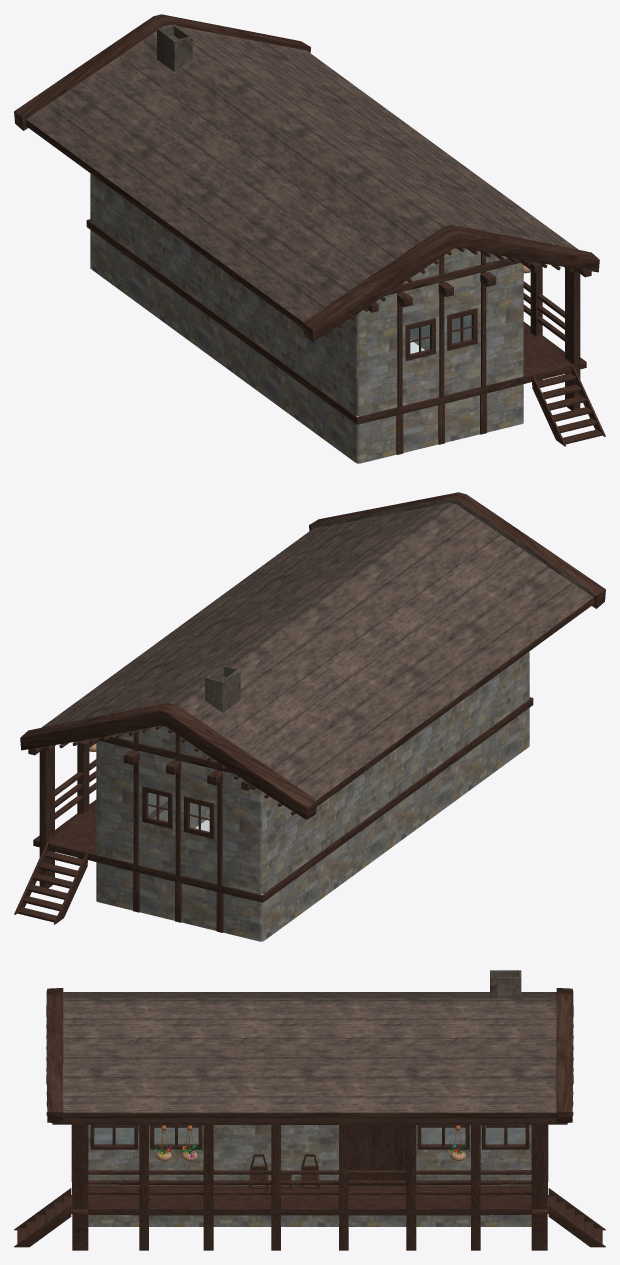
Rendered from forest-cabin.glb.
The picture shows the model from 3 angles, top to bottom: view 1: azimuth 30°, elevation 25°; view 2: azimuth 150°, elevation 25°; view 3: azimuth 270°, elevation 25°; orthographic projection. The views are drawn at different scales.
Visible parts, largest first — view 1: Roof, House, Structure, Terras, Stairs, Window1, Stairs Support, Glass; view 2: Roof, House, Structure, Terras, Stairs, Window1, Stairs Support, Glass; view 3: Roof, Terras, House, Door, Glass, Stairs Support, Stairs, Window3, Window4, Chair1, Chair1.001.
Part boxes in pixels (x1,y1,x2,y2): Roof: (14, 14, 599, 341); House: (90, 173, 523, 463); Structure: (86, 219, 526, 454); Terras: (452, 266, 591, 410); Stairs: (532, 373, 602, 444); Window1: (405, 308, 477, 360); Stairs Support: (532, 365, 605, 446); Glass: (410, 315, 471, 353); Roof: (20, 492, 605, 819); House: (96, 651, 529, 941); Structure: (93, 697, 533, 932); Terras: (28, 744, 167, 888); Stairs: (17, 851, 87, 922); Window1: (142, 786, 214, 838); Stairs Support: (14, 843, 87, 924); Glass: (148, 793, 209, 831); Roof: (46, 970, 573, 1123); Terras: (52, 1118, 567, 1250); House: (88, 1124, 531, 1226); Door: (348, 1125, 406, 1186); Glass: (94, 1128, 525, 1143); Stairs Support: (14, 1188, 605, 1247); Stairs: (17, 1195, 602, 1243); Window3: (90, 1124, 529, 1149); Window4: (150, 1125, 469, 1149); Chair1: (300, 1154, 319, 1199); Chair1.001: (249, 1154, 268, 1199).
Size of the model in its own units: 9.62 by 7.41 by 19.11.
20 materials, 19 textured.
